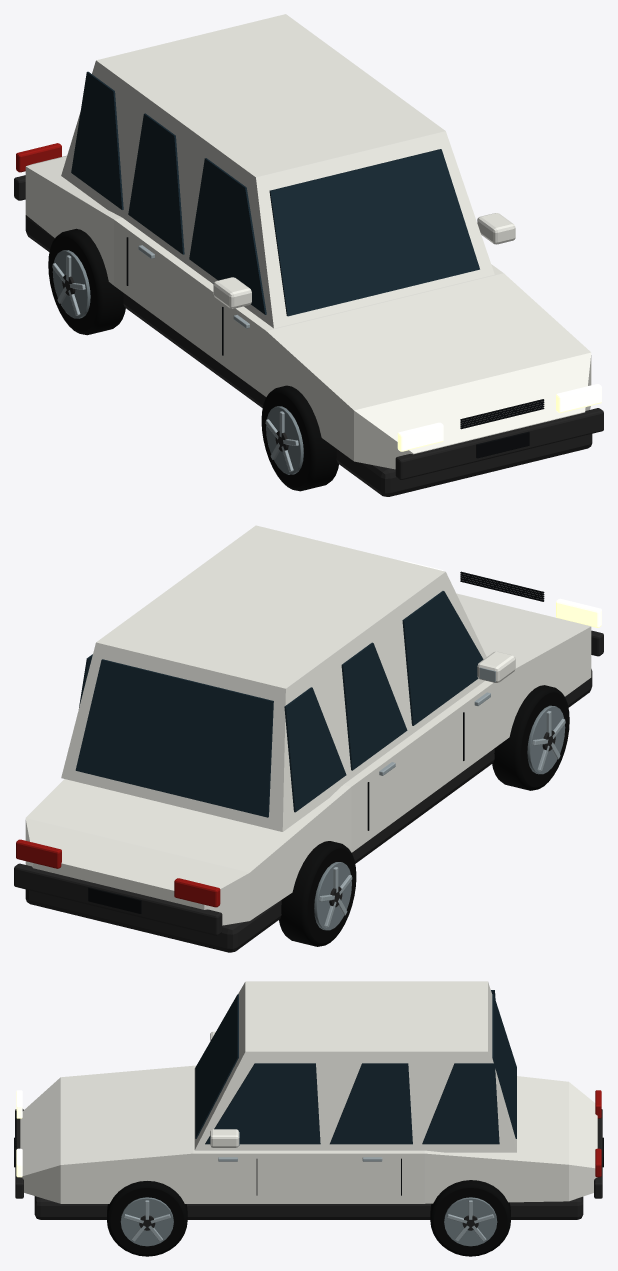
Rendered from OAA_Vehicle_ServiceVan.fbx.
3 renders of one model, top to bottom at view 1: azimuth 30°, elevation 25°; view 2: azimuth 150°, elevation 25°; view 3: azimuth 270°, elevation 25°, orthographic. The views are drawn at different scales.
Visible parts, largest first — view 1: Body, Pivot_Roda.011_Mesh, Pivot_Roda.010_Mesh; view 2: Body, Pivot_Roda.011_Mesh, Pivot_Roda.010_Mesh; view 3: Body, Pivot_Roda.013_Mesh, Pivot_Roda.012_Mesh.
Part boxes in pixels (x1,y1,x2,y2): Body: (14,14,603,496); Pivot_Roda.011_Mesh: (48,228,125,335); Pivot_Roda.010_Mesh: (261,385,338,491); Body: (14,525,603,952); Pivot_Roda.011_Mesh: (279,841,356,946); Pivot_Roda.010_Mesh: (492,685,569,790); Body: (14,981,603,1219); Pivot_Roda.013_Mesh: (430,1180,510,1256); Pivot_Roda.012_Mesh: (107,1181,187,1256).
Bounding box in the file's own units: 2.17 × 1.85 × 5.11.
